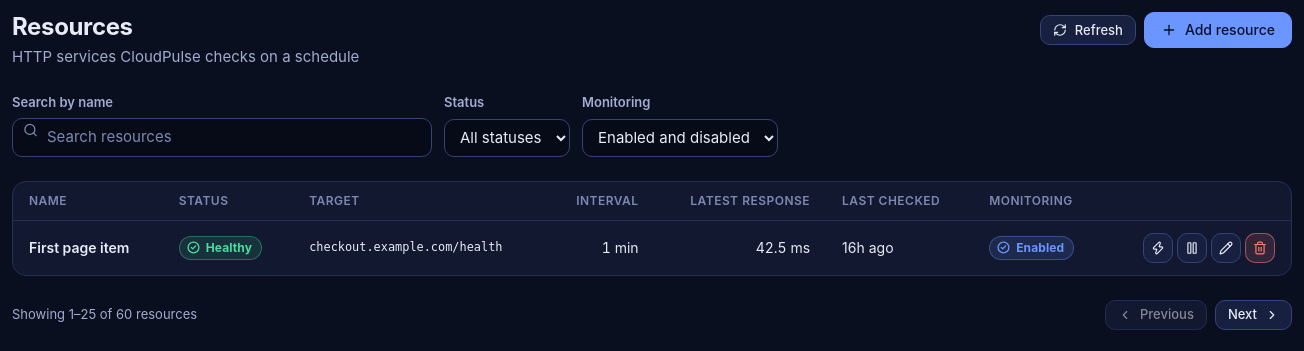
Test: ResourcesPage list › paginates with the offset instead of loading everything
Expected: the link "First page item" is shown, [29,237,147,258]
Expected: the text "Showing 1–25 of 60 resources" is shown, [12,305,197,324]
Click the button "Next" at (1253, 314), box [1215,300,1292,330]
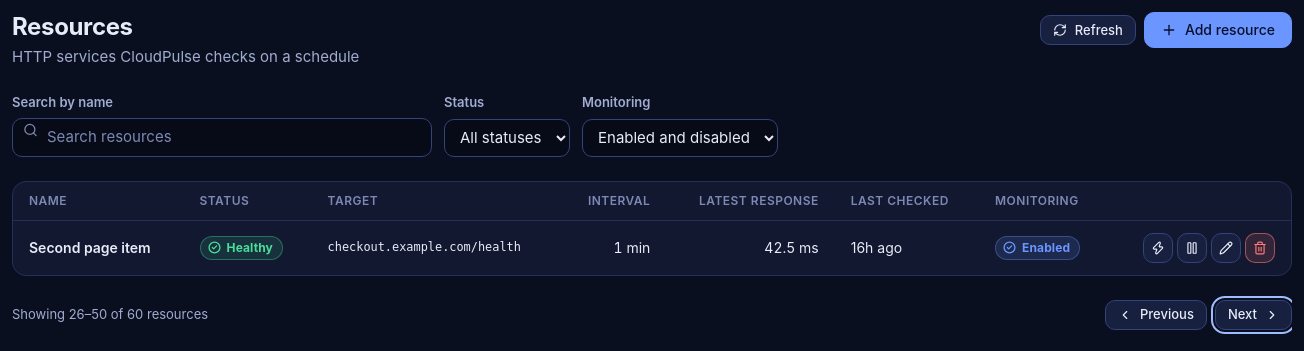
Expected: the link "Second page item" is shown, [29,237,168,258]
